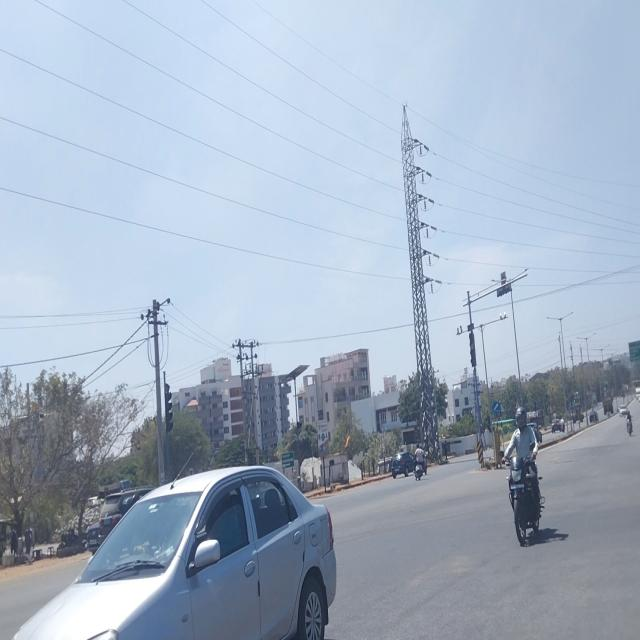bien_cam: (491, 399, 501, 415)
